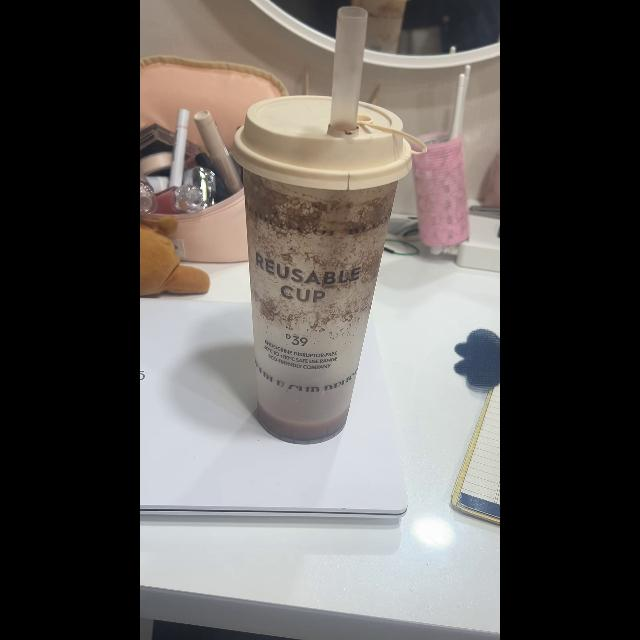dirty: (240, 164, 398, 448)
